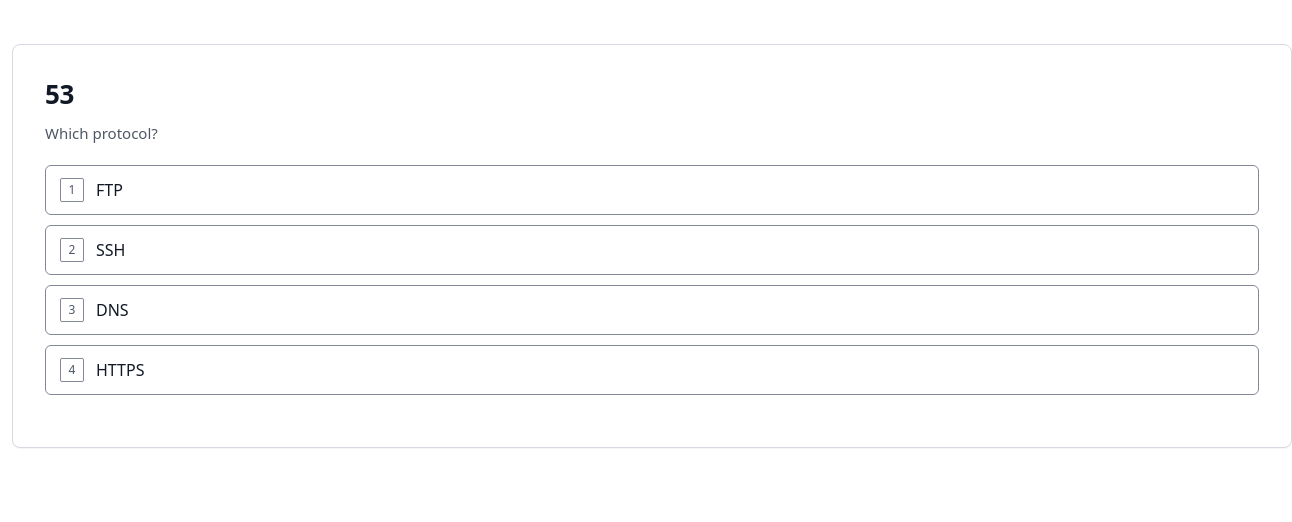
Test: RecallPlayer, a choice of answers › waits for Continue after a correct answer: nothing moves by itself
Click the button "3 DNS". click: click(112, 310)
box: [45, 285, 1259, 335]
Wait 60000 ms
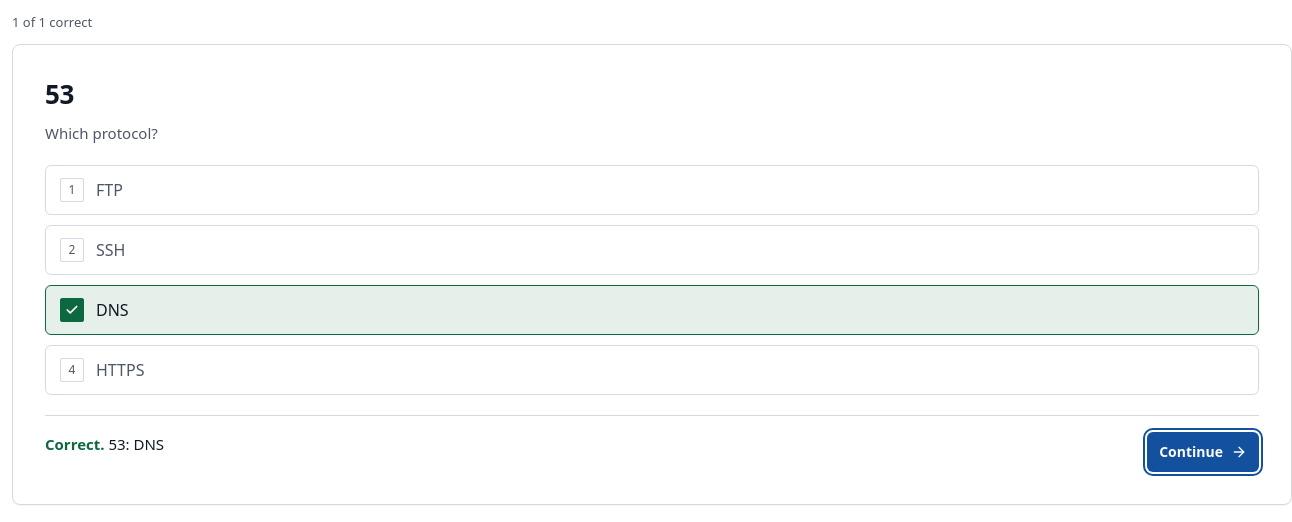
Now the text "Correct." is shown, box [45, 434, 104, 454]
Now the button "Continue" is shown
Note: Continue draws the next question, which takes the focus so that it is read.
Click the button "Continue". click: click(1203, 452)
box: [1147, 432, 1259, 472]
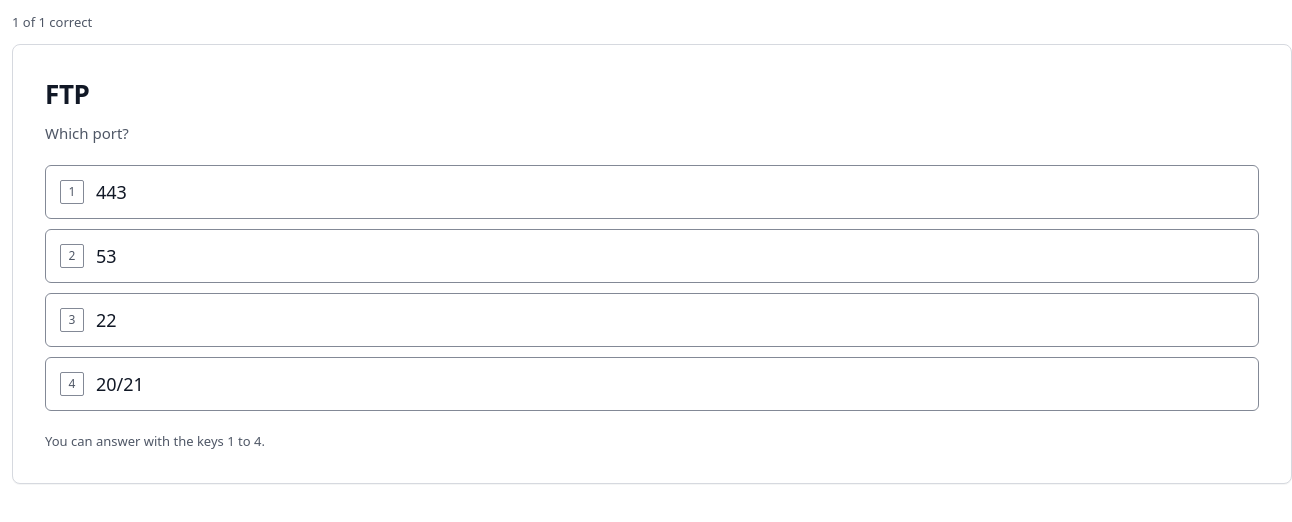
Expected: the text "Correct." is not shown
Now the button "Continue" is gone
